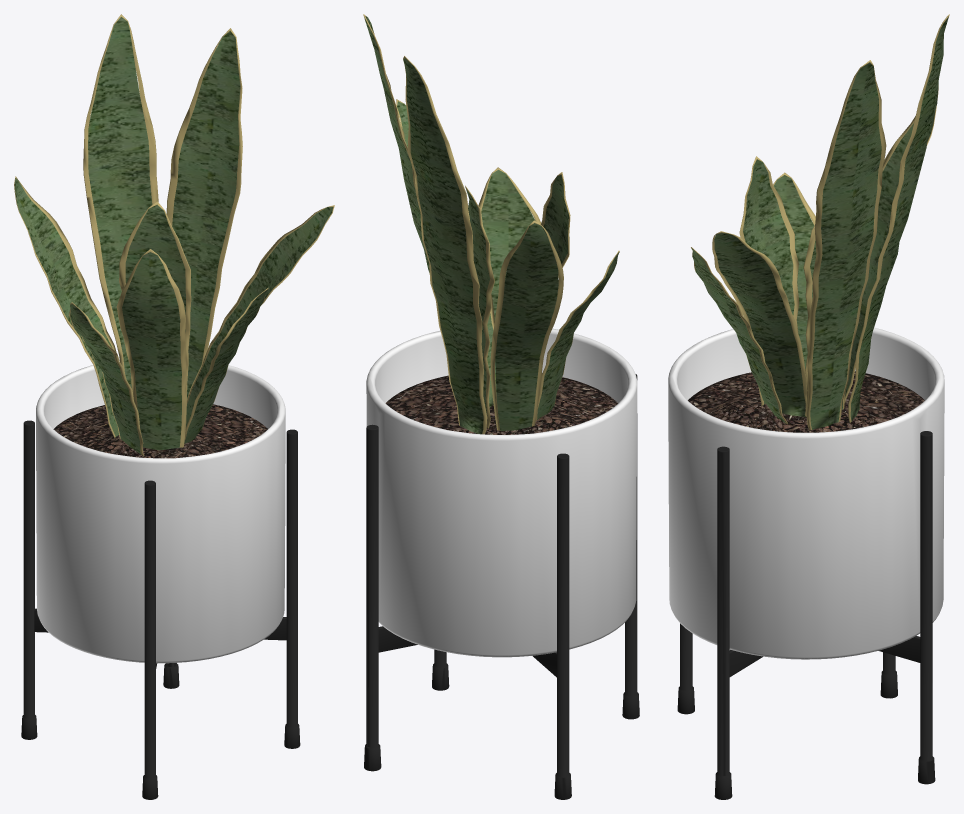
File: floor_plant.glb
3 views of the same model, side by side, from view 1: azimuth 30°, elevation 25°; view 2: azimuth 150°, elevation 25°; view 3: azimuth 270°, elevation 25° (orthographic). The views are drawn at different scales.
Visible parts, largest first — view 1: plant_border, pot, frame, mud; view 2: pot, plant_border, frame, mud; view 3: pot, plant_border, frame, mud.
Boxes of the visible parts, box(x1,y1,x2,y2) form: plant_border: box(14, 14, 334, 455); pot: box(36, 359, 285, 663); frame: box(21, 420, 300, 799); mud: box(53, 404, 267, 458); pot: box(366, 328, 637, 657); plant_border: box(363, 14, 619, 434); frame: box(364, 374, 639, 799); mud: box(385, 373, 617, 434); pot: box(668, 327, 944, 659); plant_border: box(691, 14, 949, 430); frame: box(677, 431, 935, 799); mud: box(688, 371, 924, 432).
Bounding box in the file's own units: 0.331 × 0.8739 × 0.2993.
5 materials, 2 textured.
